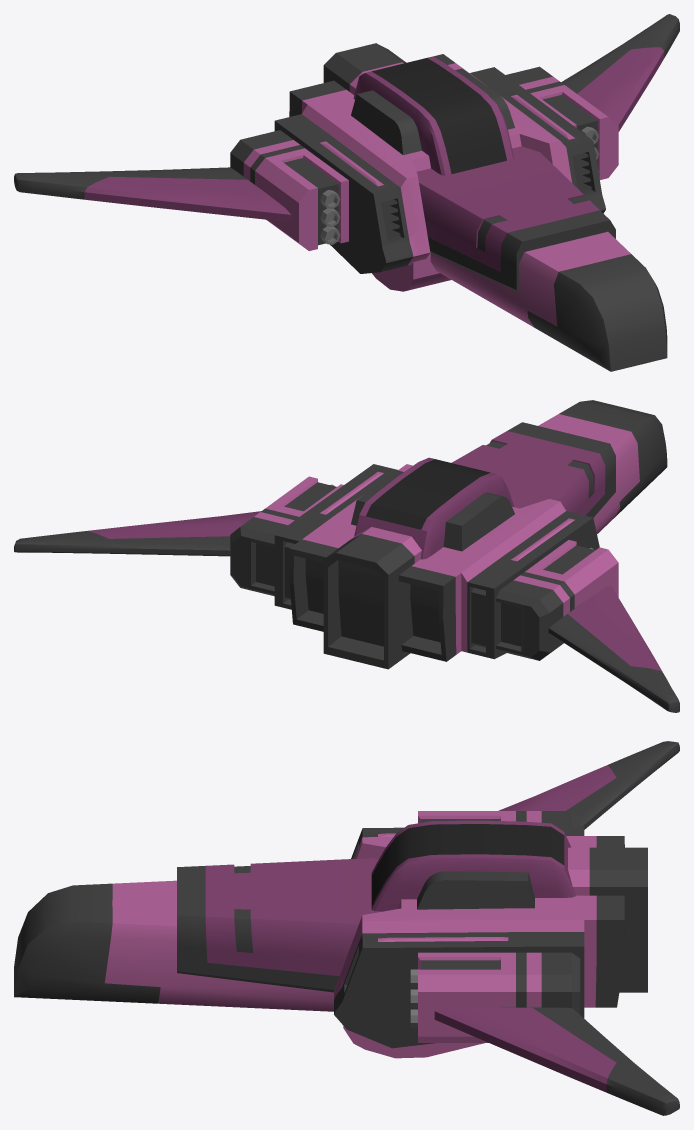
The model's file is Spaceship.glb.
3 views of the same model, one above another, from view 1: azimuth 30°, elevation 25°; view 2: azimuth 150°, elevation 25°; view 3: azimuth 270°, elevation 25° (orthographic). The views are drawn at different scales.
Visible parts, largest first — view 1: Spaceship_FernandoTheFlamingo; view 2: Spaceship_FernandoTheFlamingo; view 3: Spaceship_FernandoTheFlamingo.
Boxes of the visible parts, x1=… form: Spaceship_FernandoTheFlamingo: x1=14, y1=14, x2=679, y2=371; Spaceship_FernandoTheFlamingo: x1=14, y1=400, x2=679, y2=712; Spaceship_FernandoTheFlamingo: x1=14, y1=741, x2=679, y2=1115.
Size of the model in its own units: 11.14 by 2.53 by 8.66.
Materials: 1 (1 with a texture image).
